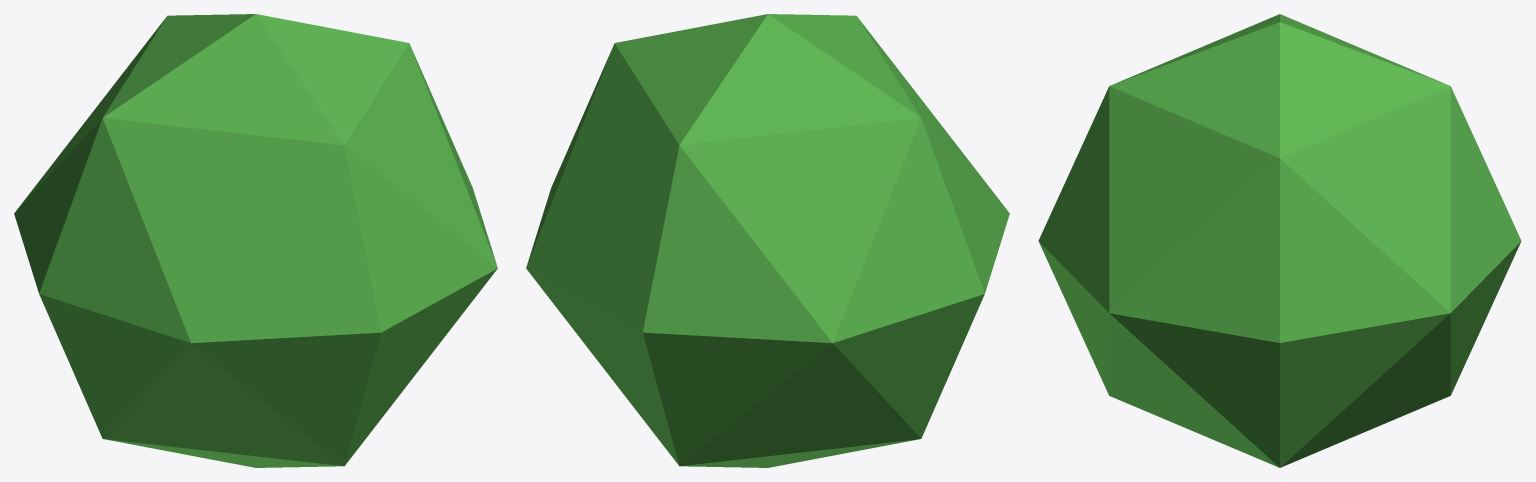
Rendered from Plants-Bush-Round-Small.FBX.
3 renders of one model, left to right at view 1: azimuth 30°, elevation 25°; view 2: azimuth 150°, elevation 25°; view 3: azimuth 270°, elevation 25°, orthographic. The views are drawn at different scales.
Visible parts, largest first — view 1: Plants-Bush-Round-Small; view 2: Plants-Bush-Round-Small; view 3: Plants-Bush-Round-Small.
Part boxes in pixels (<box>): Plants-Bush-Round-Small: <box>14,14,497,467</box>; Plants-Bush-Round-Small: <box>526,14,1009,467</box>; Plants-Bush-Round-Small: <box>1038,14,1521,467</box>.
Bounding box in the file's own units: 10 × 10 × 10.
